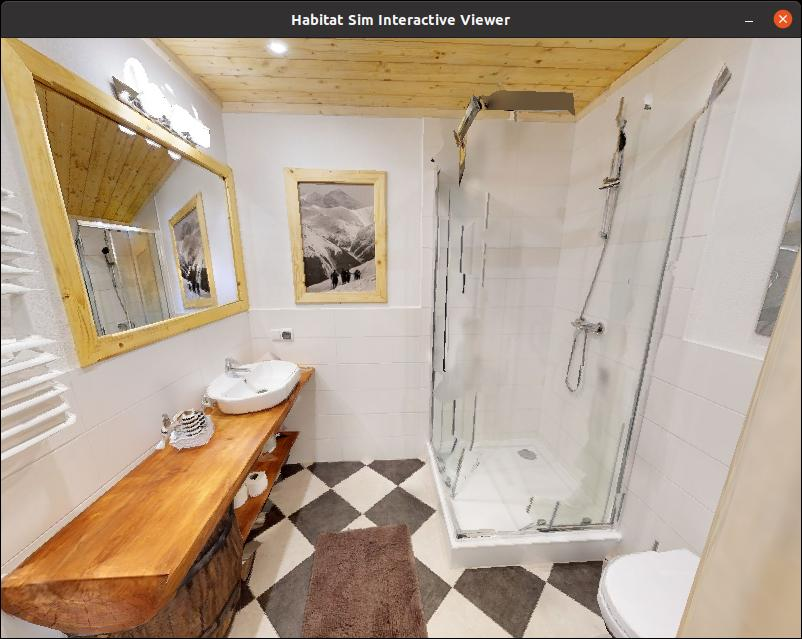shower: (415, 105, 684, 566)
sink: (200, 339, 313, 426)
toilet: (575, 525, 758, 639)
